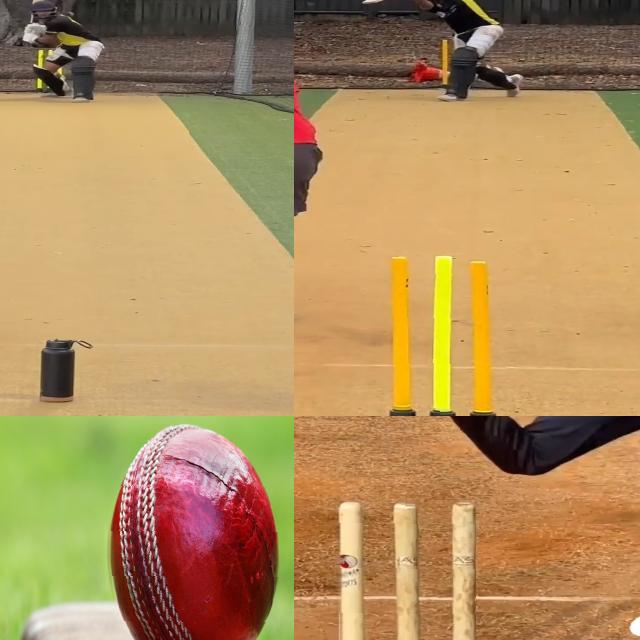Cricket ball: (104, 418, 279, 640)
Stumps: (368, 250, 506, 416), (337, 500, 476, 640)
